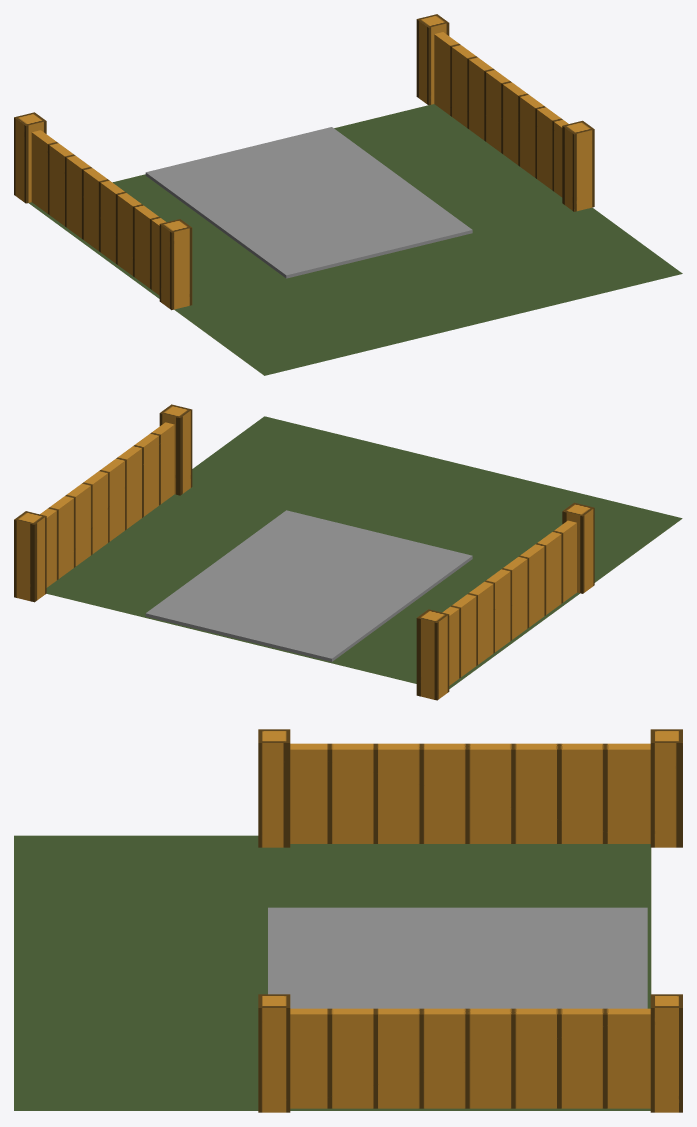
The model's file is Frontyard.001.fbx.
3 renders of one model, top to bottom at view 1: azimuth 30°, elevation 25°; view 2: azimuth 150°, elevation 25°; view 3: azimuth 270°, elevation 25°, orthographic. The views are drawn at different scales.
Visible parts, largest first — view 1: Plane.009, Cube.089, Plane.008; view 2: Plane.009, Cube.089, Plane.008; view 3: Plane.009, Cube.089, Plane.008.
Part boxes in pixels (left/top/right/bottom): Plane.009: left=28, top=104, right=682, bottom=375; Cube.089: left=14, top=14, right=594, bottom=310; Plane.008: left=145, top=127, right=472, bottom=278; Plane.009: left=46, top=416, right=682, bottom=688; Cube.089: left=14, top=404, right=594, bottom=700; Plane.008: left=145, top=510, right=472, bottom=661; Plane.009: left=14, top=835, right=651, bottom=1110; Cube.089: left=258, top=729, right=682, bottom=1112; Plane.008: left=268, top=907, right=647, bottom=1008.
Bounding box in the file's own units: 4.56 × 0.7981 × 4.63.
